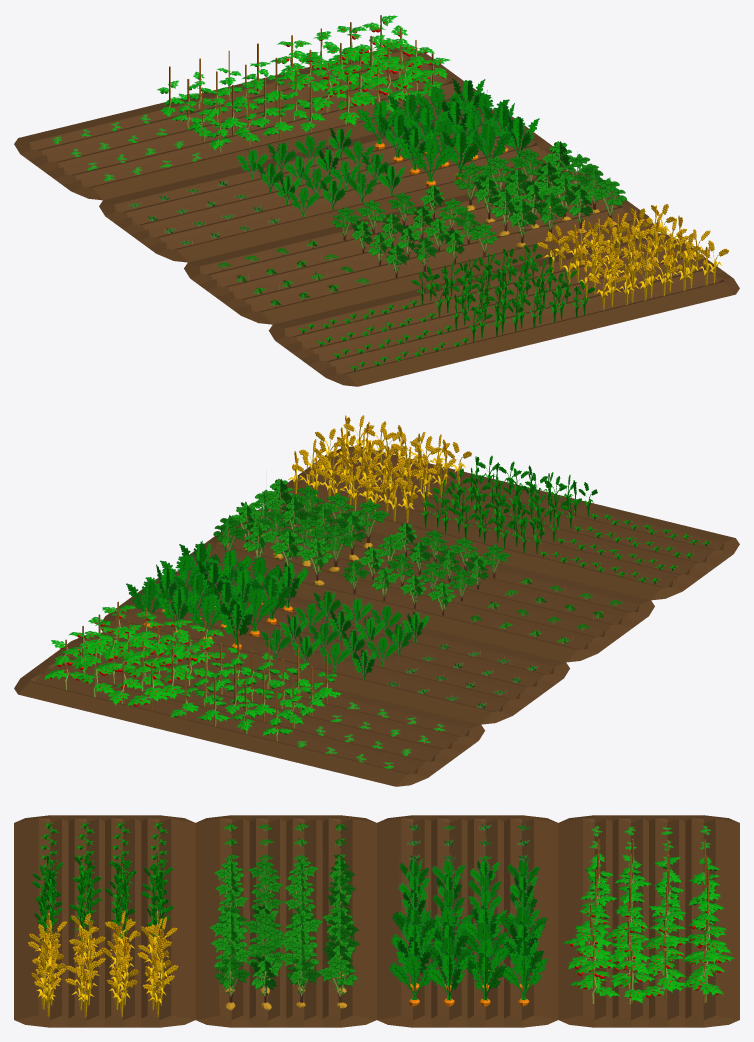
Rendered from crops.glb.
The picture shows the model from 3 angles, top to bottom: view 1: azimuth 30°, elevation 25°; view 2: azimuth 150°, elevation 25°; view 3: azimuth 270°, elevation 25°; orthographic projection. The views are drawn at different scales.
Parts seen in each view (by area): view 1: Soil.002, Soil, Soil.003, Soil.001, Carrot_F3, Potatoe_F3, Tomatoe_F3, Wheat_F3, Potatoe_F2, Carrot_F2, Wheat_F2, Tomatoe_F2 (+4 smaller); view 2: Soil.003, Soil.002, Soil.001, Soil, Carrot_F3, Potatoe_F3, Tomatoe_F3, Wheat_F3, Potatoe_F2, Carrot_F2, Wheat_F2, Tomatoe_F2 (+4 smaller); view 3: Soil.002, Soil.003, Soil, Soil.001, Carrot_F3, Tomatoe_F3, Potatoe_F3, Wheat_F3, Carrot_F2, Potatoe_F2, Tomatoe_F2, Wheat_F2 (+4 smaller).
Part boxes in pixels (x1,y1,x2,y2): Soil.002: (268, 233, 739, 386); Soil: (184, 170, 653, 324); Soil.003: (14, 46, 479, 200); Soil.001: (99, 108, 569, 262); Carrot_F3: (357, 78, 539, 187); Potatoe_F3: (454, 141, 626, 248); Tomatoe_F3: (269, 15, 450, 125); Wheat_F3: (537, 204, 728, 310); Potatoe_F2: (331, 185, 497, 277); Carrot_F2: (236, 127, 405, 216); Wheat_F2: (411, 243, 595, 342); Tomatoe_F2: (157, 43, 325, 152); Soil.003: (14, 632, 484, 786); Soil.002: (278, 446, 739, 600); Soil.001: (100, 570, 569, 724); Soil: (190, 509, 654, 662); Carrot_F3: (126, 540, 308, 649); Potatoe_F3: (213, 478, 389, 586); Tomatoe_F3: (43, 601, 225, 711); Wheat_F3: (288, 415, 471, 522); Potatoe_F2: (342, 523, 510, 615); Carrot_F2: (260, 590, 429, 679); Wheat_F2: (420, 455, 597, 554); Tomatoe_F2: (170, 631, 341, 741); Soil.002: (14, 815, 195, 1027); Soil.003: (558, 815, 739, 1027); Soil: (195, 815, 376, 1027); Soil.001: (377, 815, 558, 1027); Carrot_F3: (388, 905, 548, 1006); Tomatoe_F3: (562, 901, 734, 1004); Potatoe_F3: (209, 909, 359, 1010); Wheat_F3: (27, 910, 178, 1016); Carrot_F2: (398, 858, 540, 930); Potatoe_F2: (214, 859, 355, 940); Tomatoe_F2: (580, 839, 726, 936); Wheat_F2: (32, 852, 173, 940).
Bounding box in the file's own units: 7.52 × 0.8909 × 10.86.
Materials: 5 (4 with a texture image).
